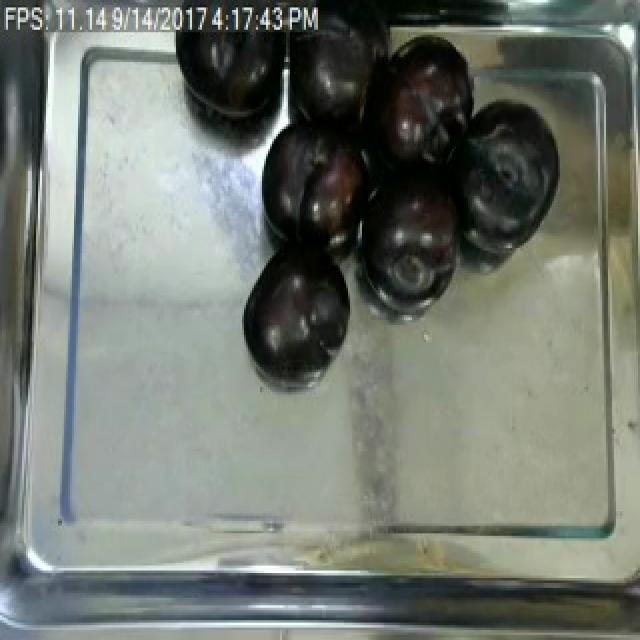Fruit: (352, 151, 480, 315), (254, 104, 376, 256), (440, 97, 562, 248), (370, 27, 478, 169), (240, 253, 354, 385)
